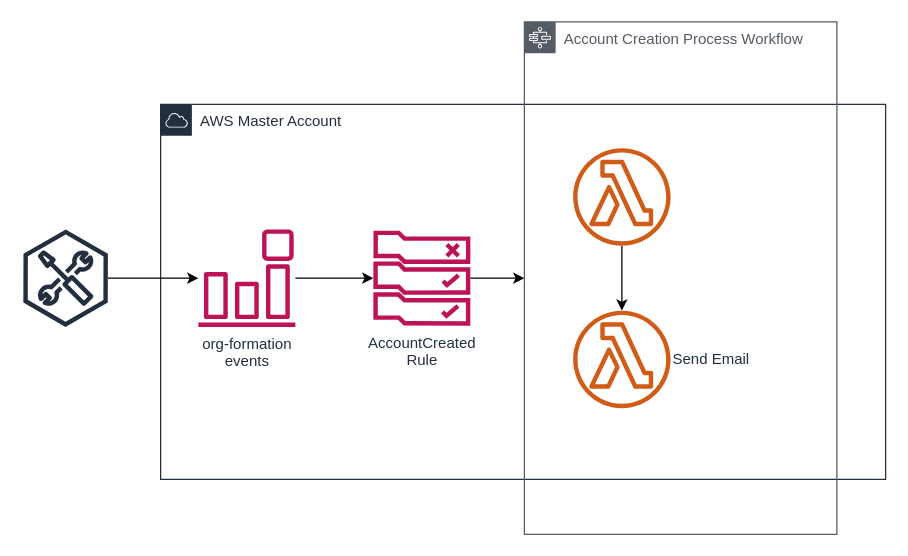
Image size: 908x556. Some labels were removed from this diagram. Here are the shapes that lost their labels. From the top down, the centre of each, then its label:
At [621,196]: "Get Account Details".
At [65,277]: "org-formation update".
